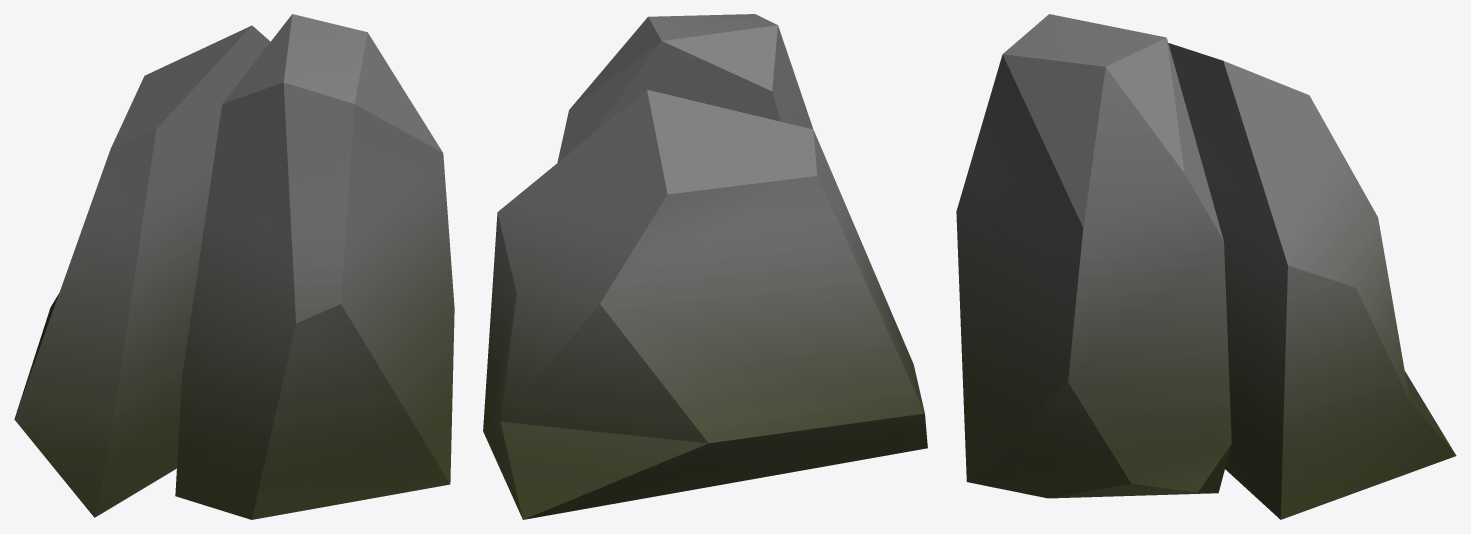
File: ea_environment_stone_moss_01b_pre__1__lev1.glb
3 renders of one model, left to right at view 1: azimuth 30°, elevation 25°; view 2: azimuth 150°, elevation 25°; view 3: azimuth 270°, elevation 25°, orthographic. The views are drawn at different scales.
Visible parts, largest first — view 1: ea_environment_stone_moss_01b_pre__1__lev1; view 2: ea_environment_stone_moss_01b_pre__1__lev1; view 3: ea_environment_stone_moss_01b_pre__1__lev1.
Part boxes in pixels (<box>): ea_environment_stone_moss_01b_pre__1__lev1: <box>14,14,454,519</box>; ea_environment_stone_moss_01b_pre__1__lev1: <box>483,14,927,519</box>; ea_environment_stone_moss_01b_pre__1__lev1: <box>956,14,1456,519</box>.
Bounding box in the file's own units: 2.96 × 2.8 × 3.05.
Materials: 1 (1 with a texture image).
